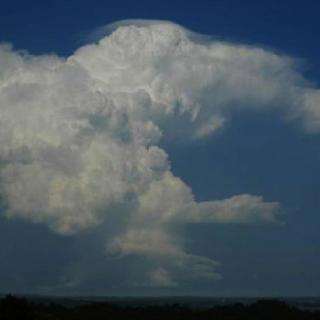Cumulonimbus: (0, 16, 320, 294)
